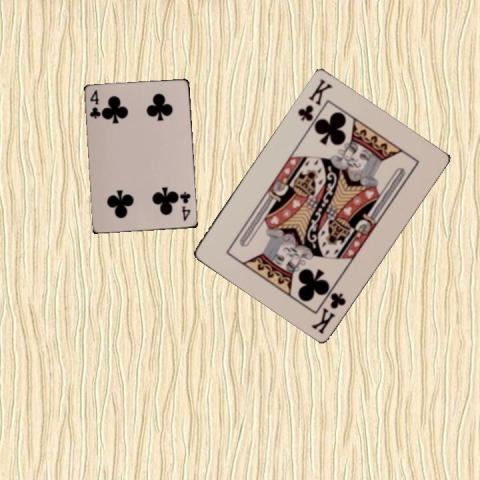4c: (87, 87, 102, 121), (178, 188, 192, 222)
Kc: (308, 289, 347, 336), (295, 75, 333, 123)
